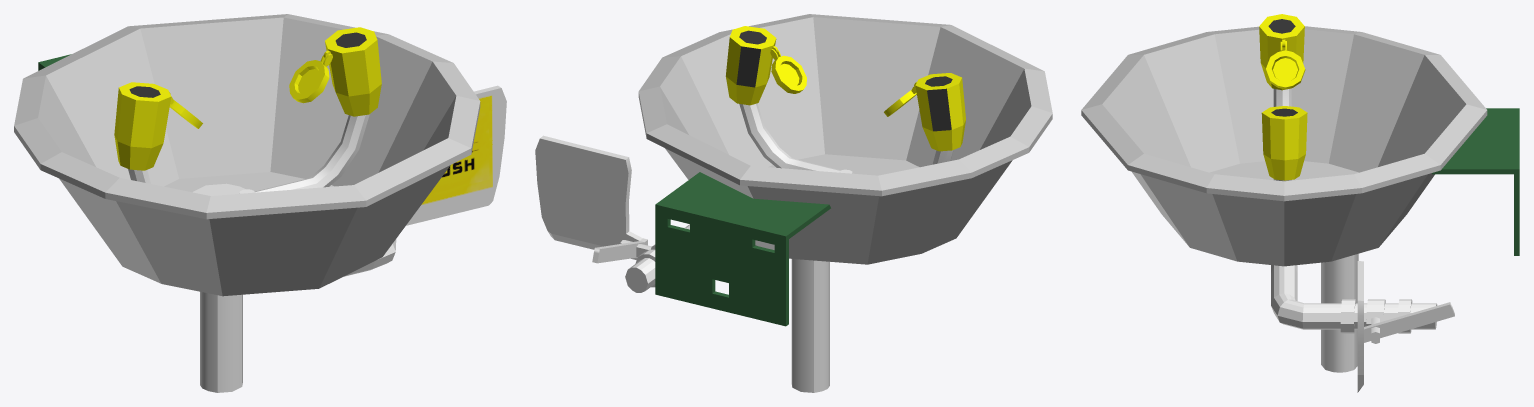
Rendered from Eye_Wash_Sink_new.fbx.
3 renders of one model, left to right at view 1: azimuth 30°, elevation 25°; view 2: azimuth 150°, elevation 25°; view 3: azimuth 270°, elevation 25°, orthographic. The views are drawn at different scales.
Visible parts, largest first — view 1: polySurface59; view 2: polySurface59; view 3: polySurface59.
Part boxes in pixels (x1,y1,x2,y2): polySurface59: (14,14,506,392); polySurface59: (535,14,1052,392); polySurface59: (1081,14,1519,392).
Size of the model in its own units: 3.51 by 2.28 by 3.07.
